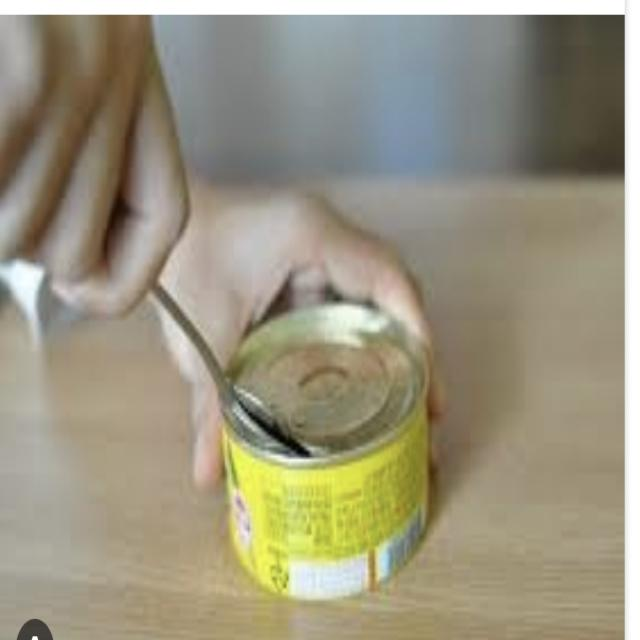recyclable: (187, 292, 457, 614)
